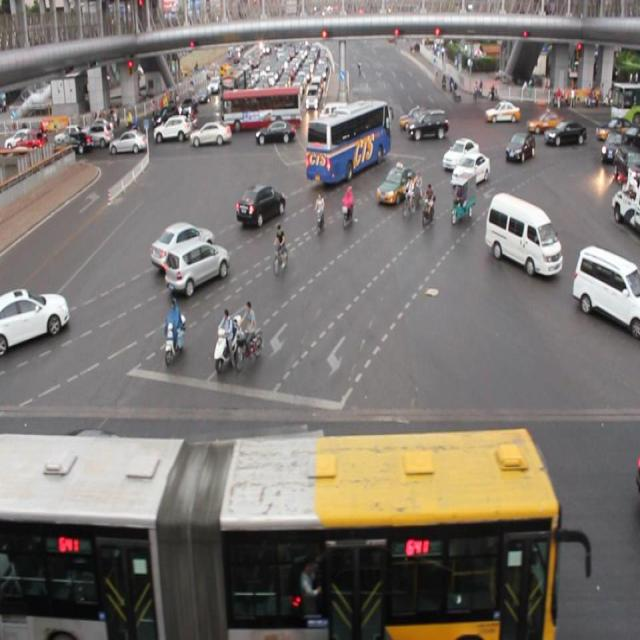car: (32, 427, 162, 532), (1, 278, 69, 356), (168, 239, 228, 294), (150, 218, 215, 264), (233, 179, 286, 225), (376, 166, 415, 204), (452, 151, 489, 190), (545, 120, 588, 148), (502, 128, 533, 165), (190, 122, 232, 148), (441, 135, 477, 164)
truck: (483, 191, 562, 278), (570, 241, 640, 339)
van: (1, 429, 555, 640), (307, 102, 389, 179)
